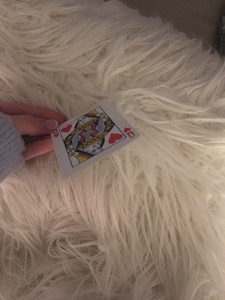QueenOfHearts: (45, 101, 142, 180)
